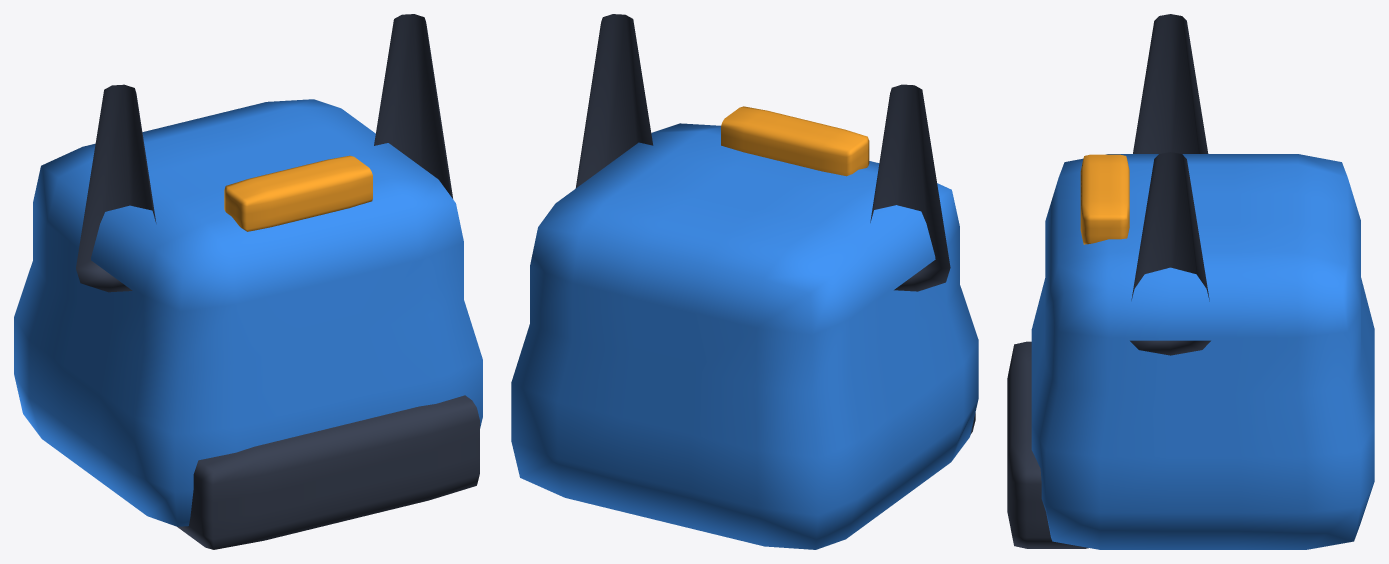
Rendered from head_horned.obj.
3 views of the same model, side by side, from view 1: azimuth 30°, elevation 25°; view 2: azimuth 150°, elevation 25°; view 3: azimuth 270°, elevation 25° (orthographic). The views are drawn at different scales.
Bounding box in the file's own units: 0.51 × 0.54 × 0.45.
